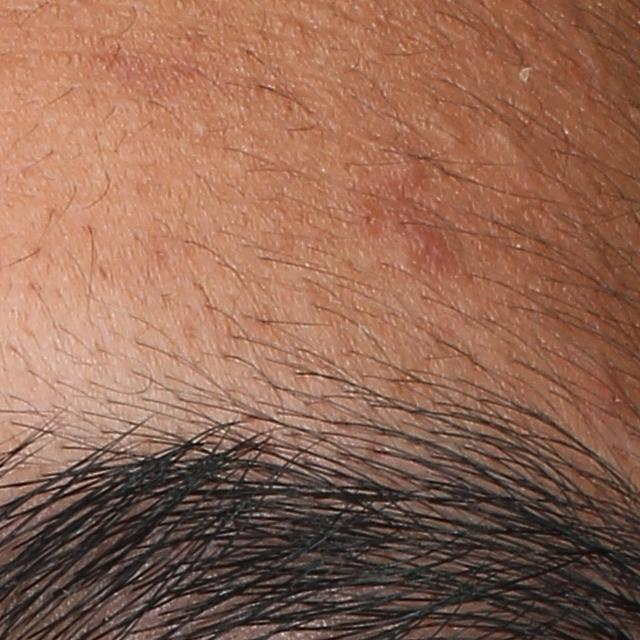comedo: (488, 125, 527, 171), (430, 112, 470, 149), (190, 118, 215, 138)
papule: (390, 212, 454, 262)
